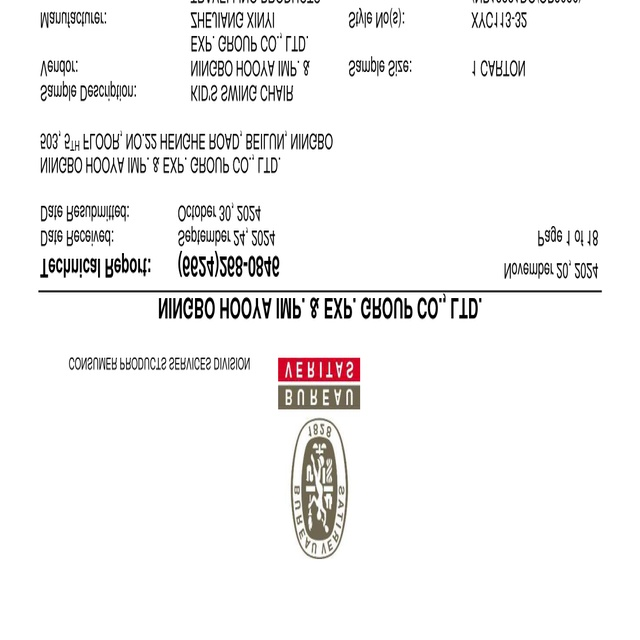bureau_veritas: (275, 355, 364, 564)
